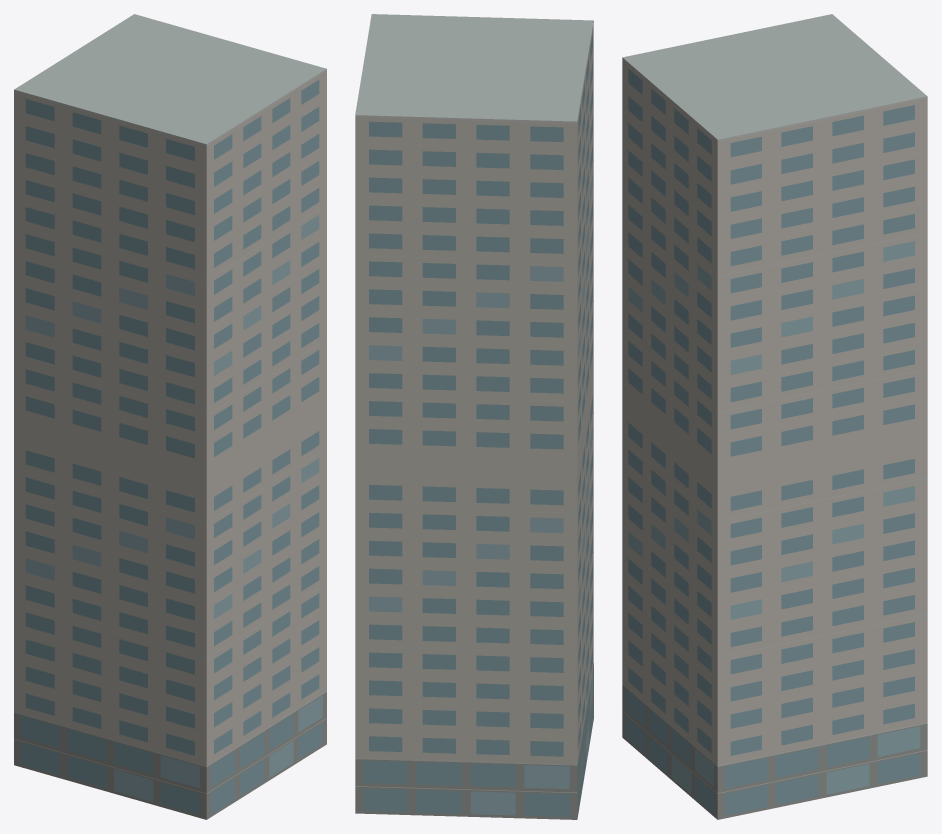
File: residential-d51c7402-4028-41c3-b401-f6830ac11994.glb
The picture shows the model from 3 angles, left to right: view 1: azimuth 30°, elevation 25°; view 2: azimuth 150°, elevation 25°; view 3: azimuth 270°, elevation 25°; orthographic projection. The views are drawn at different scales.
Visible parts, largest first — view 1: residential-d51c7402-4028-41c3-b401-f6830ac11994.tmp; view 2: residential-d51c7402-4028-41c3-b401-f6830ac11994.tmp; view 3: residential-d51c7402-4028-41c3-b401-f6830ac11994.tmp.
Boxes of the visible parts, x1,y1,x2,y2 form: residential-d51c7402-4028-41c3-b401-f6830ac11994.tmp: [14, 14, 326, 819]; residential-d51c7402-4028-41c3-b401-f6830ac11994.tmp: [355, 14, 593, 819]; residential-d51c7402-4028-41c3-b401-f6830ac11994.tmp: [622, 14, 927, 819].
Bounding box in the file's own units: 30.24 × 76.25 × 31.03.
